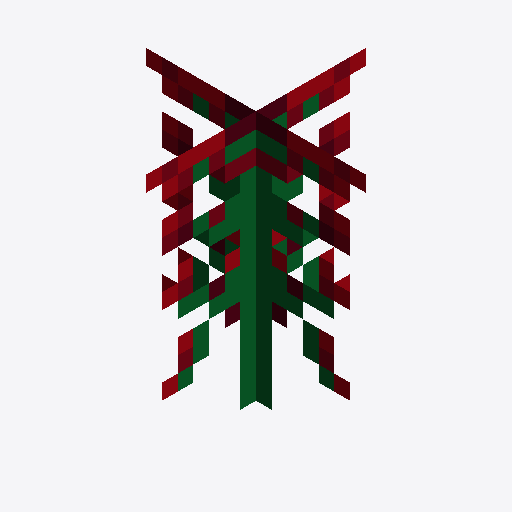
A Minecraft block model of 66 cuboids, rendered isometrically (azimuth 45°, elevation 35.3°) with the resource pack's own textures.
Visible parts, largest first — BottomStalk (×2), element 29, element 60, element 6, element 31, element 57, element 62, element 2, element 59, element 30, element 63, element 3 (+27 smaller).
Part boxes in pixels (bbox=[...]): BottomStalk (×2): bbox=[240, 102, 271, 409]; element 29: bbox=[209, 193, 239, 246]; element 60: bbox=[272, 193, 302, 246]; element 6: bbox=[178, 320, 208, 372]; element 31: bbox=[162, 202, 192, 255]; element 57: bbox=[303, 320, 333, 372]; element 62: bbox=[319, 202, 349, 255]; element 2: bbox=[225, 247, 239, 327]; element 59: bbox=[272, 247, 286, 327]; element 30: bbox=[319, 112, 349, 155]; element 63: bbox=[162, 112, 192, 155]; element 3: bbox=[225, 121, 239, 182].
Size of the model in its own units: 14 by 16 by 14.